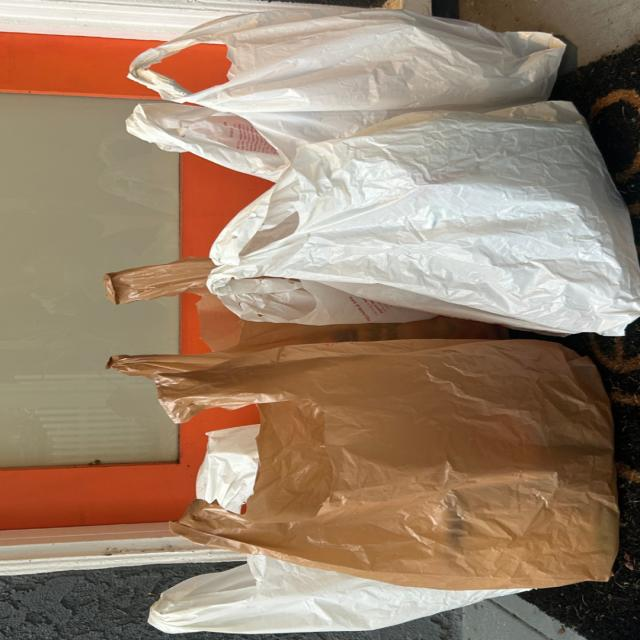Single-layer Plastic: (115, 340, 618, 590), (208, 102, 638, 335), (128, 9, 564, 181), (103, 258, 507, 351), (149, 555, 519, 634)
